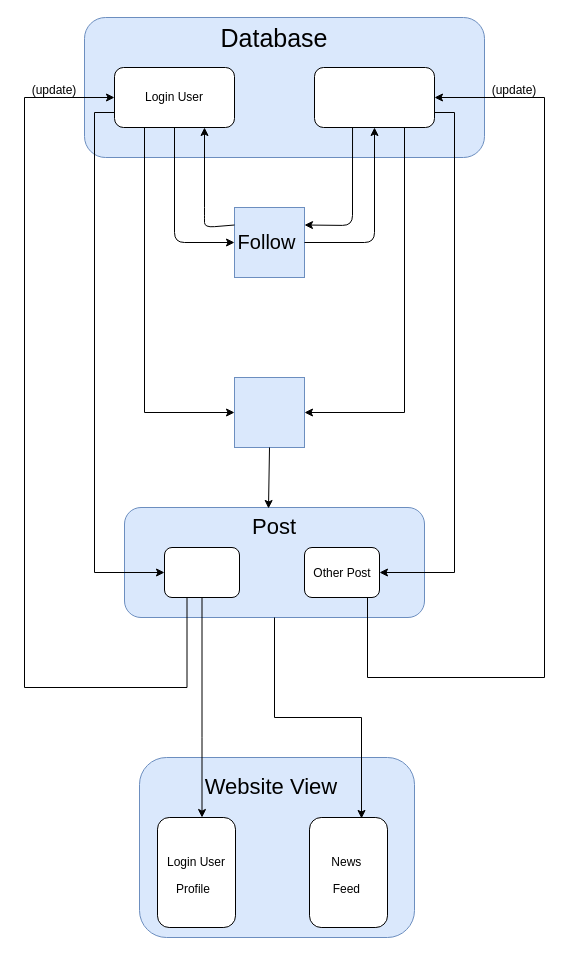
The diagram is 570 pixels wide and 955 high, and some of its shapes have lost their labels. Each missing label, with the box of its shape:
Like: (234, 376, 304, 448)
Login Post: (164, 546, 240, 598)
Other User: (314, 66, 434, 128)
